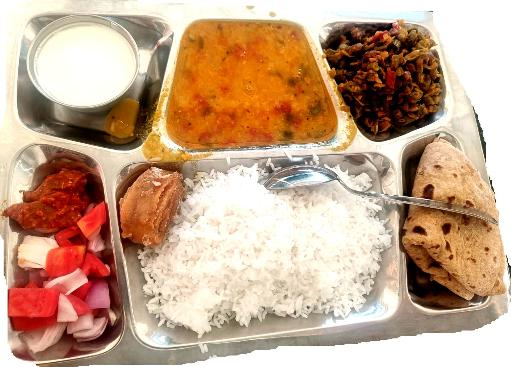Curd: (15, 14, 147, 123)
Dal: (166, 25, 332, 147)
Pickle: (2, 148, 90, 232)
Rice: (111, 161, 402, 363)
Roti: (405, 140, 511, 311)
Salad: (3, 238, 108, 363)
Sweet: (113, 163, 180, 249)
Vegetable: (338, 18, 458, 137)
